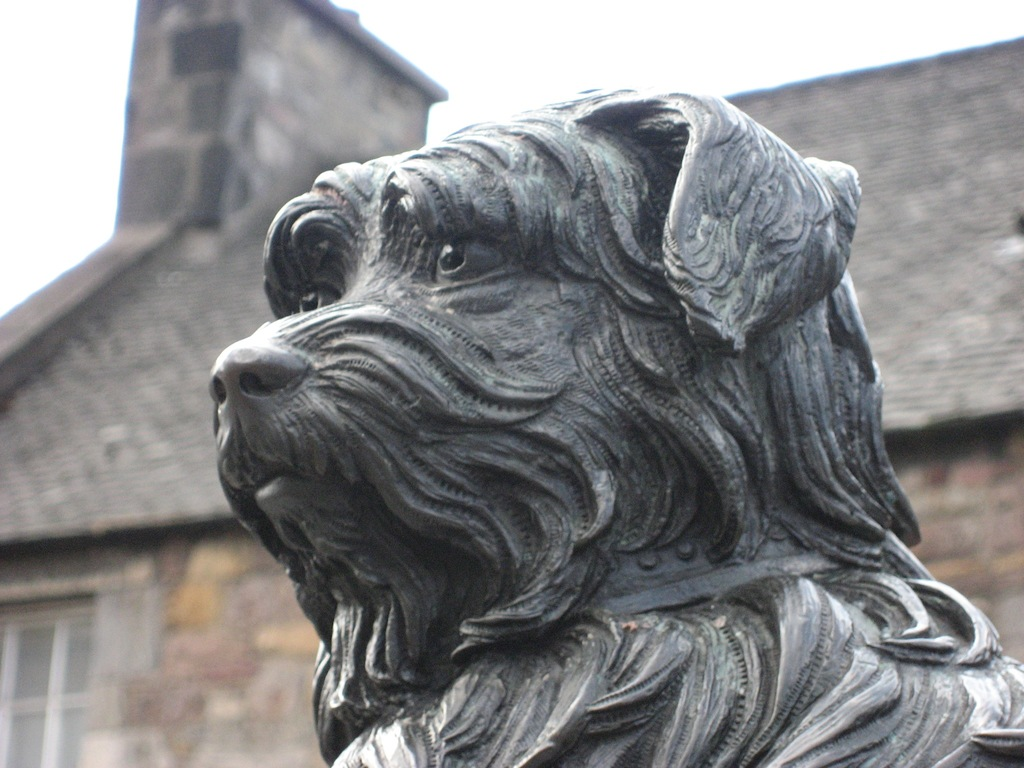Animal: (202, 81, 1022, 766)
